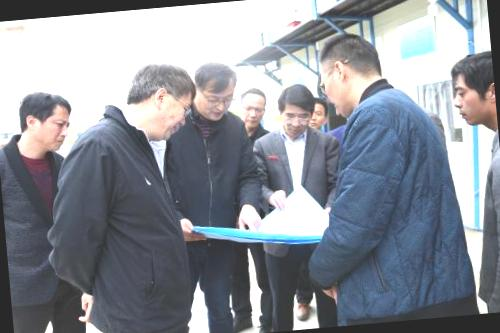no_helmet: (117, 53, 195, 140), (310, 30, 387, 116), (442, 45, 496, 136), (12, 83, 75, 156), (188, 55, 240, 121), (276, 83, 316, 138), (237, 86, 270, 130), (307, 95, 330, 134)
